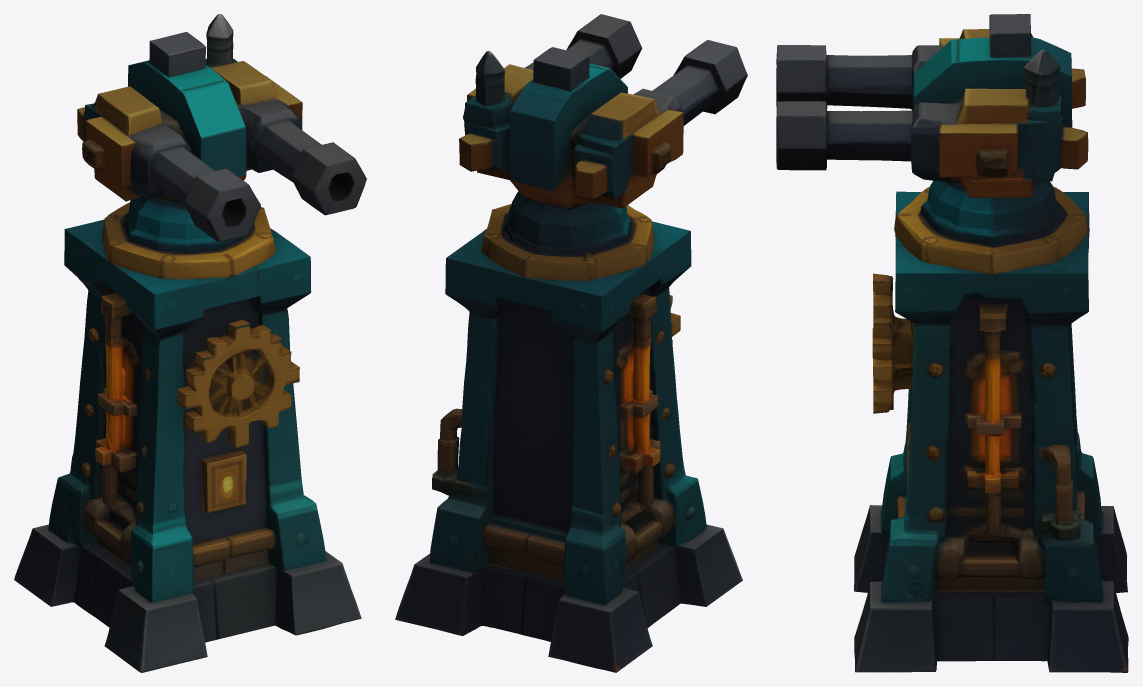
File: TurretMachineGun-BOevM1ZK.glb
3 renders of one model, left to right at view 1: azimuth 30°, elevation 25°; view 2: azimuth 150°, elevation 25°; view 3: azimuth 270°, elevation 25°, orthographic. The views are drawn at different scales.
Visible parts, largest first — view 1: world; view 2: world; view 3: world.
Boxes of the visible parts, left/top/right/bottom form: world: left=14, top=14, right=366, bottom=672; world: left=395, top=14, right=747, bottom=672; world: left=776, top=14, right=1128, bottom=672.
Size of the model in its own units: 0.4191 by 1 by 0.5373.
1 material, 1 textured.
